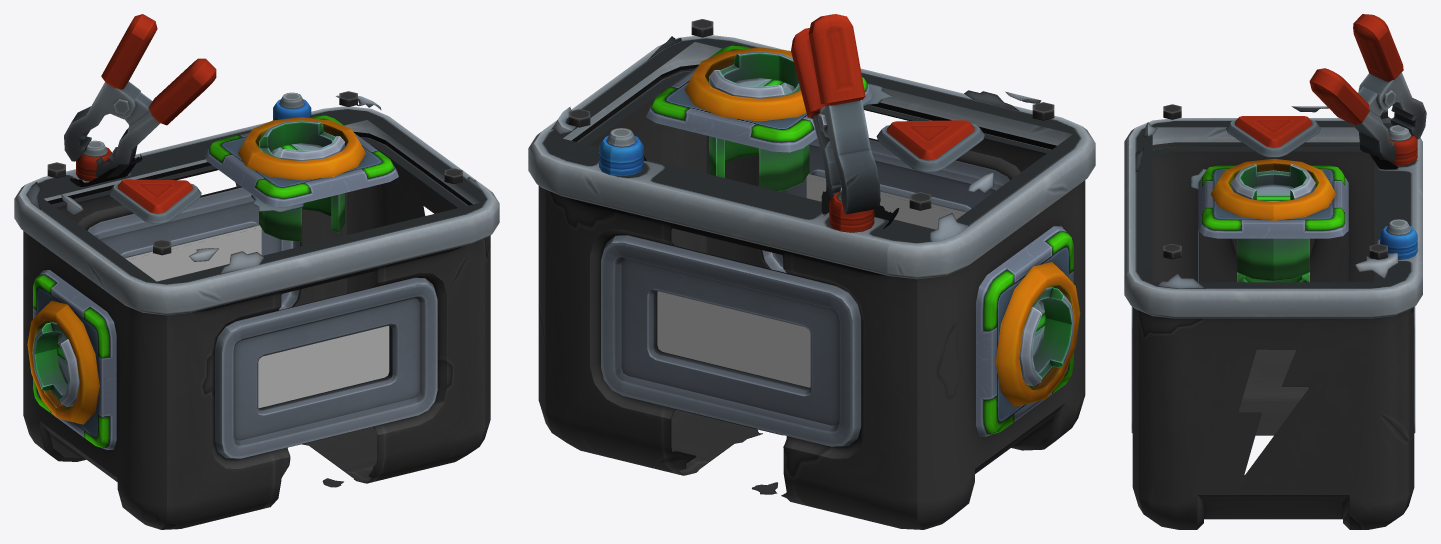
The model's file is obj_containers_battery.fbx.
The picture shows the model from 3 angles, left to right: view 1: azimuth 30°, elevation 25°; view 2: azimuth 150°, elevation 25°; view 3: azimuth 270°, elevation 25°; orthographic projection. The views are drawn at different scales.
Parts seen in each view (by area): view 1: obj_containers_battery; view 2: obj_containers_battery; view 3: obj_containers_battery.
Boxes of the visible parts, x1,y1,x2,y2 form: obj_containers_battery: (14, 14, 499, 529); obj_containers_battery: (528, 14, 1095, 529); obj_containers_battery: (1124, 14, 1426, 529).
Bounding box in the file's own units: 4.4 × 4.51 × 3.01.
